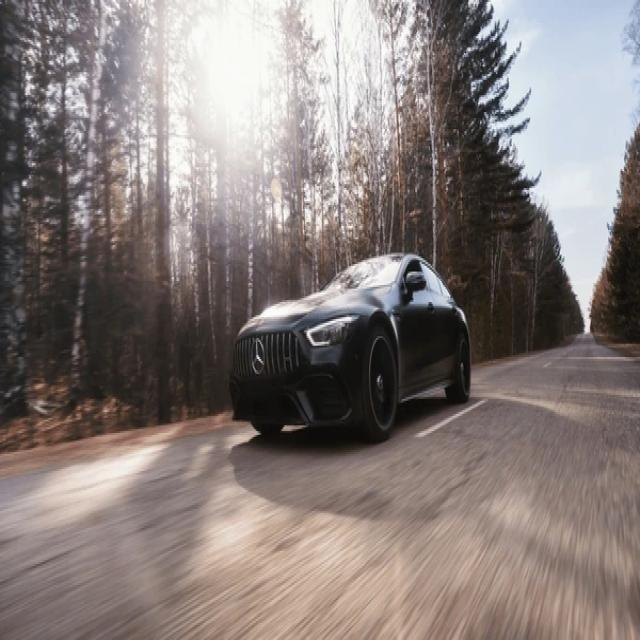mercedes: (250, 338, 267, 373)
